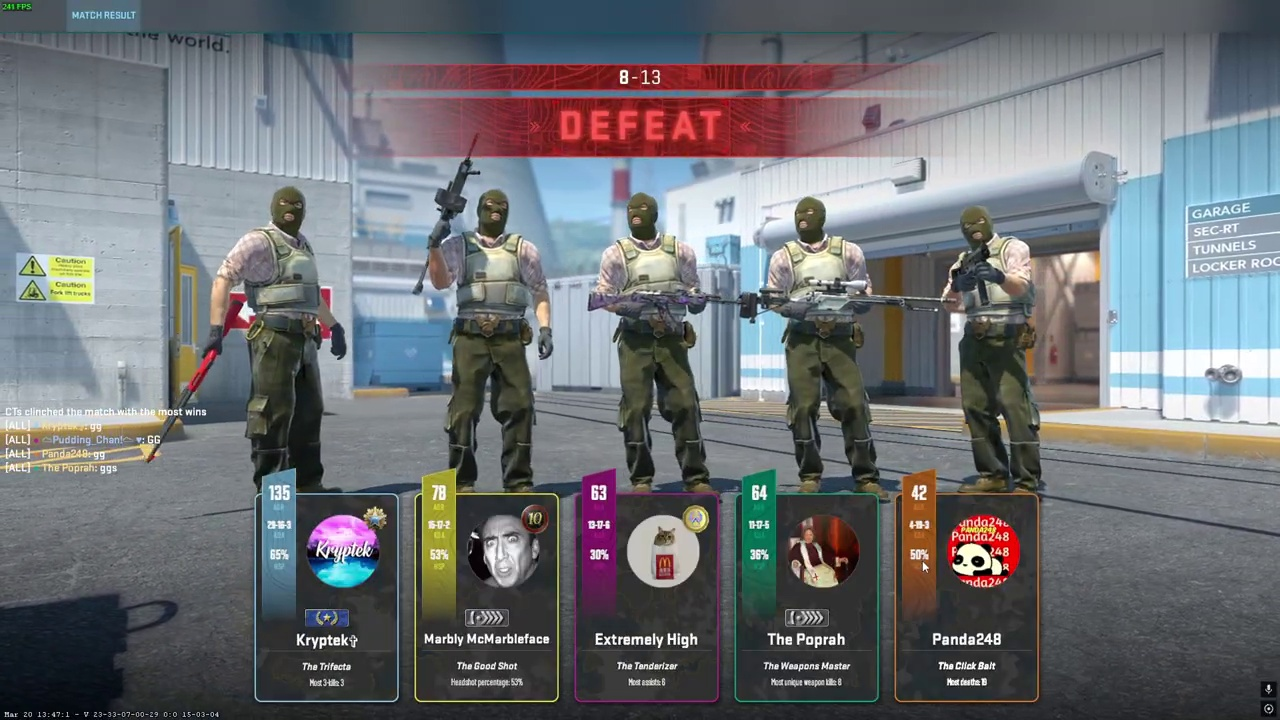Terrorist: (434, 188, 546, 489), (770, 196, 882, 493), (600, 191, 710, 491), (233, 185, 340, 493), (951, 205, 1043, 493)
